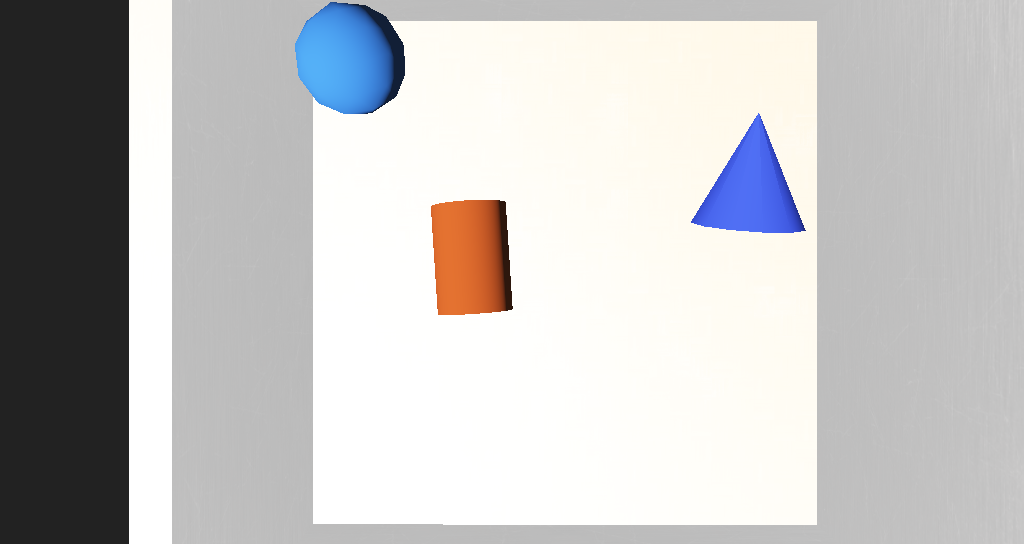cone: (428, 239, 475, 286)
cylinder: (573, 196, 653, 253)
sphere: (354, 157, 414, 205)
